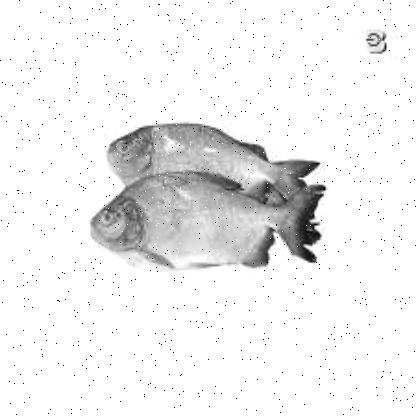ikan-pacu: (87, 178, 298, 270), (106, 116, 296, 192)
